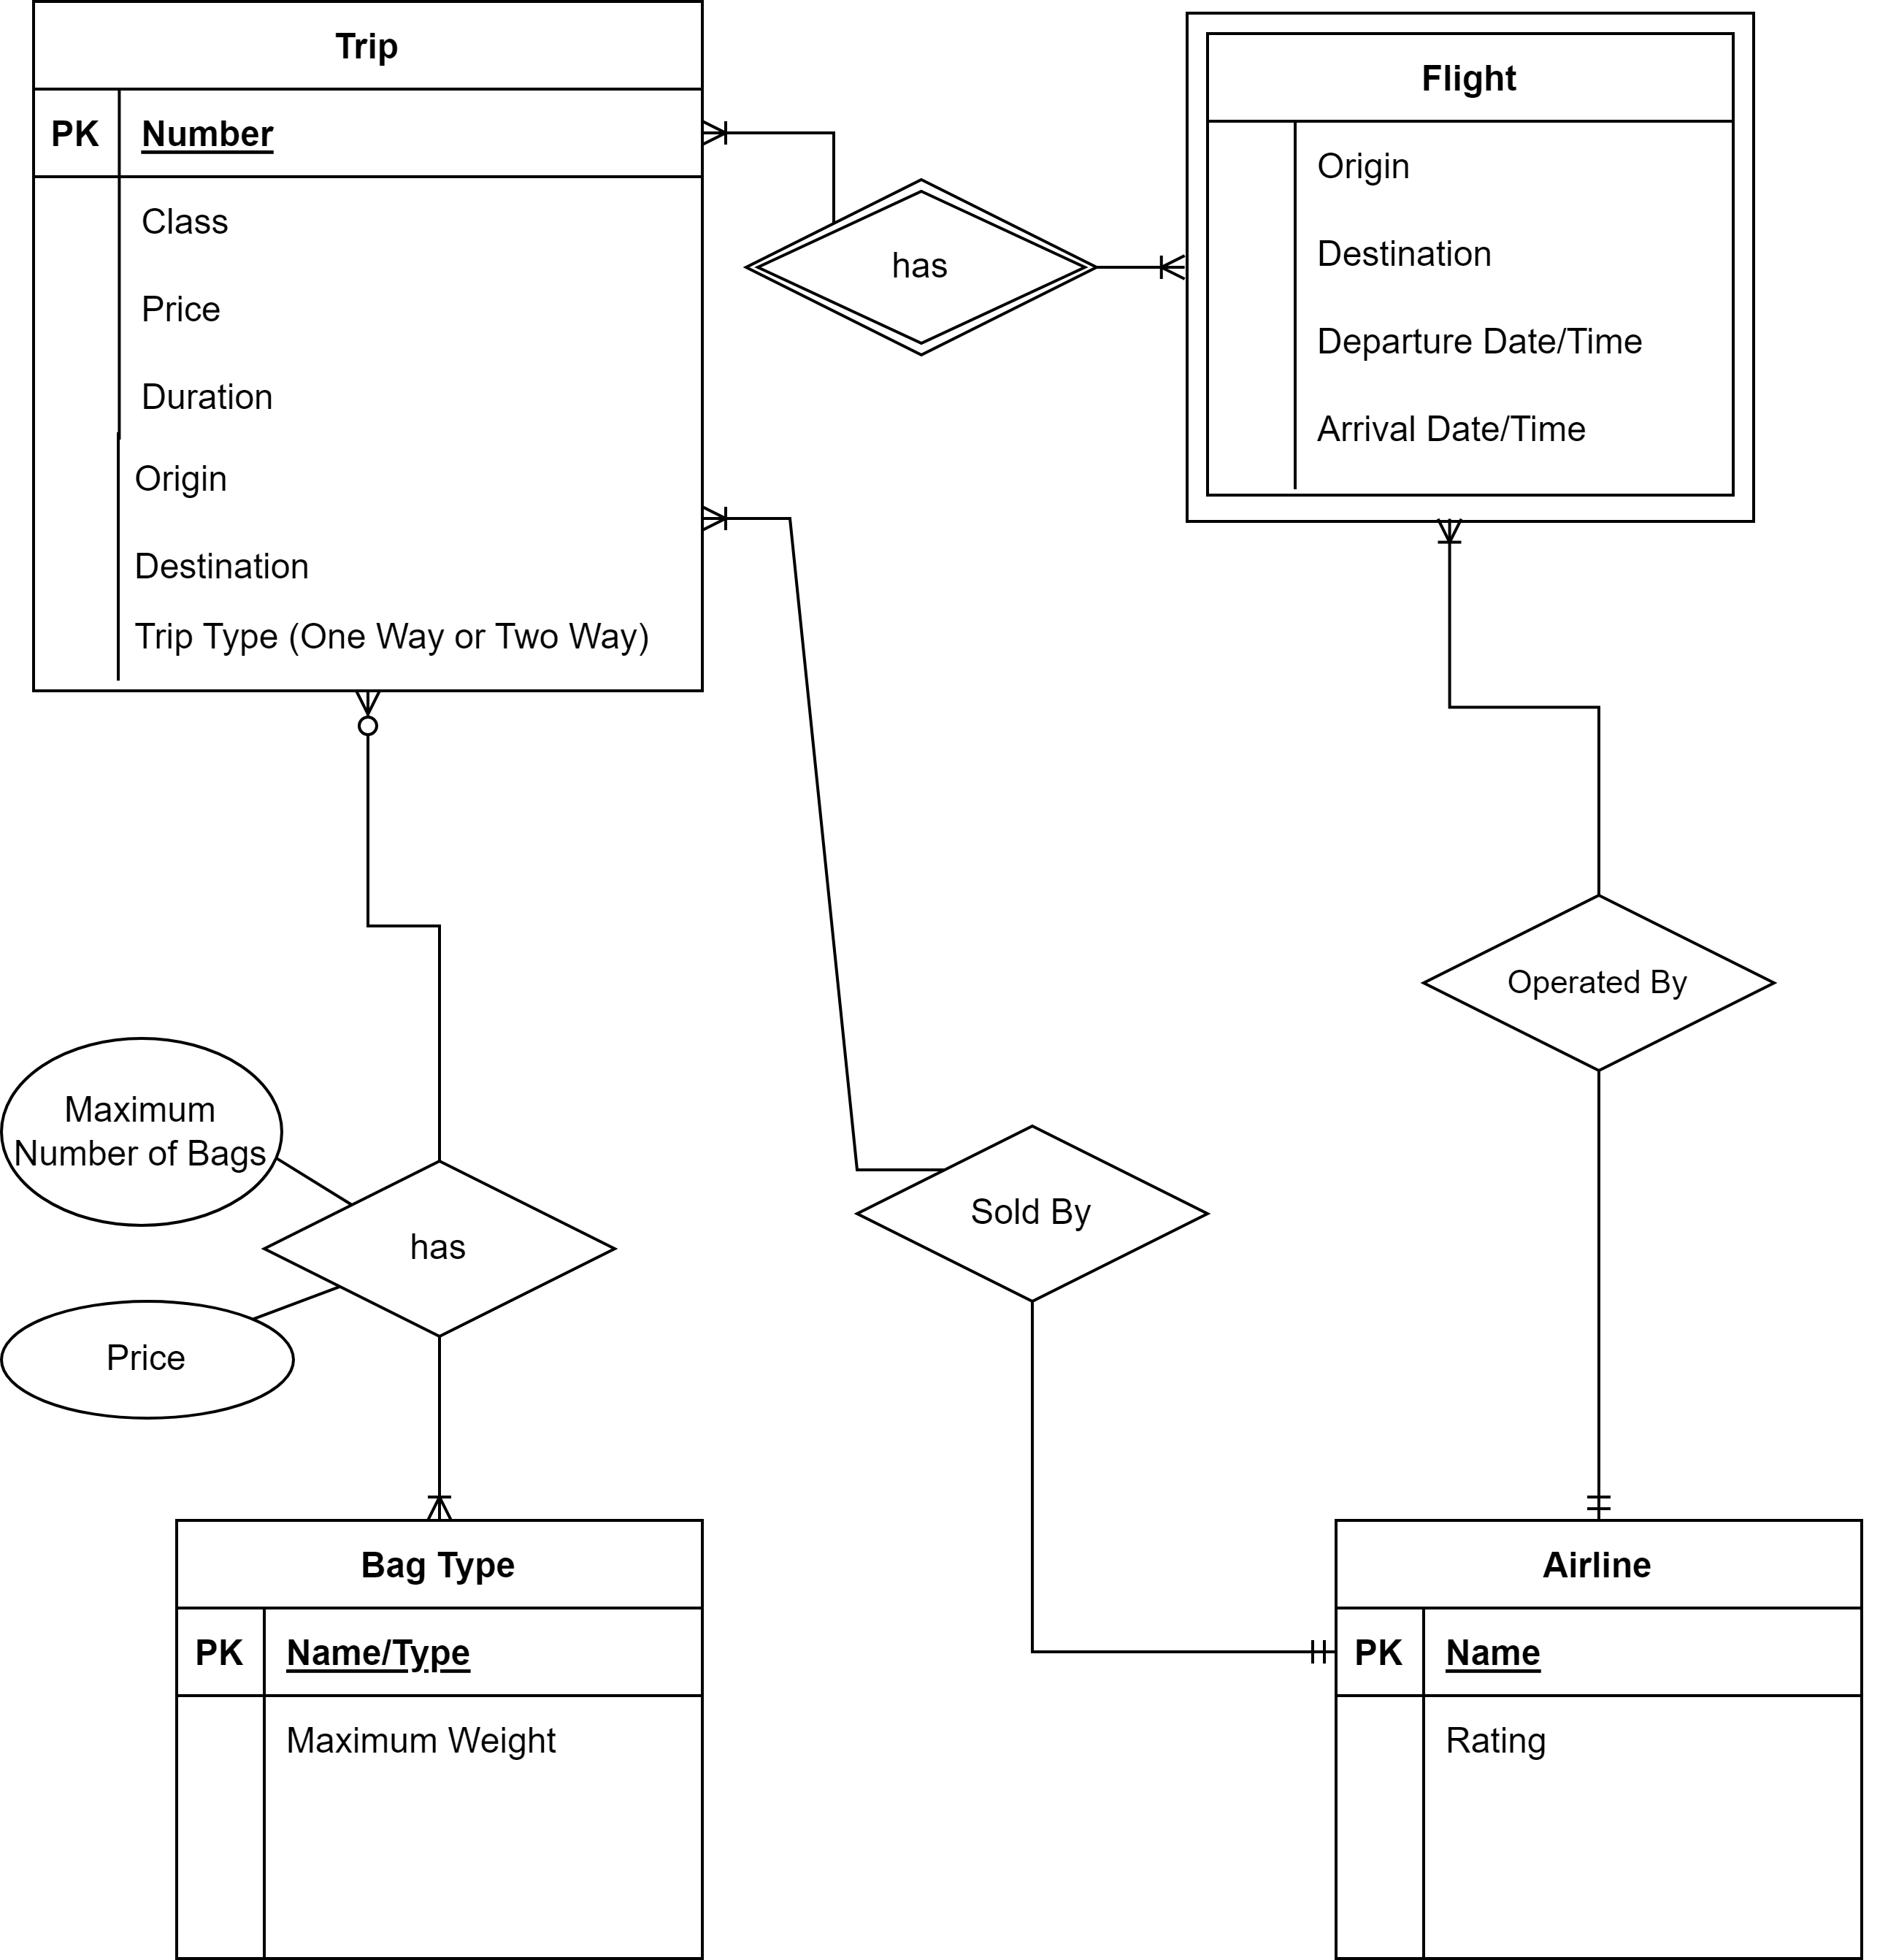entity: (35, 5, 702, 691), (1333, 1519, 1865, 1955), (173, 1517, 700, 1956)
many: (332, 684, 409, 754), (696, 488, 763, 548), (1410, 520, 1503, 562), (700, 96, 756, 163), (1139, 229, 1186, 296), (415, 1477, 471, 1517)
one: (1570, 1475, 1636, 1521), (1291, 1617, 1335, 1680)
rel: (1423, 892, 1776, 1076), (747, 173, 1092, 359), (857, 1125, 1214, 1304), (266, 1157, 616, 1337)
rel_attr: (5, 1034, 287, 1225), (3, 1302, 299, 1421)
weak_entity: (1186, 10, 1752, 523)
